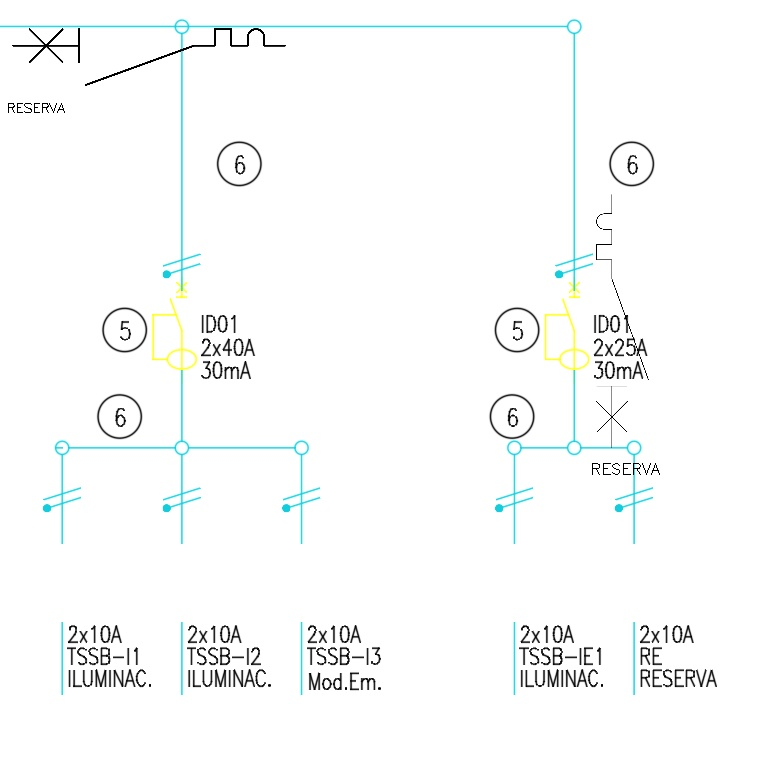interruptor_termomagnetico: (6, 22, 292, 92), (590, 188, 655, 454)
